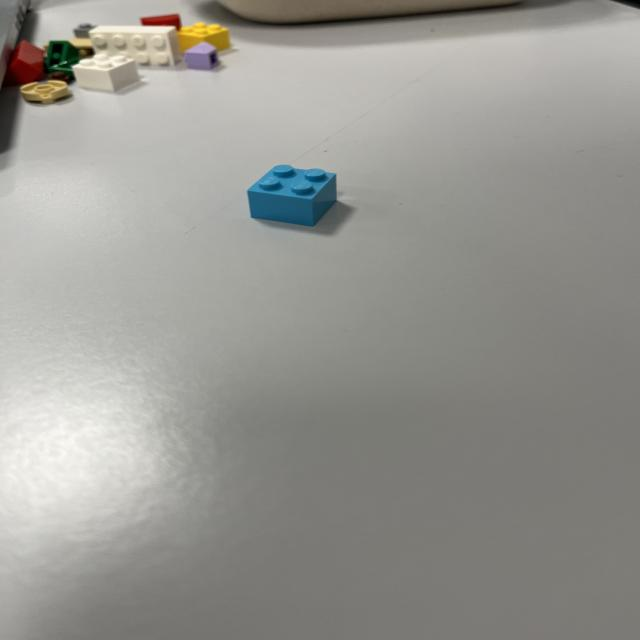C2x2x1: (246, 163, 338, 227)
